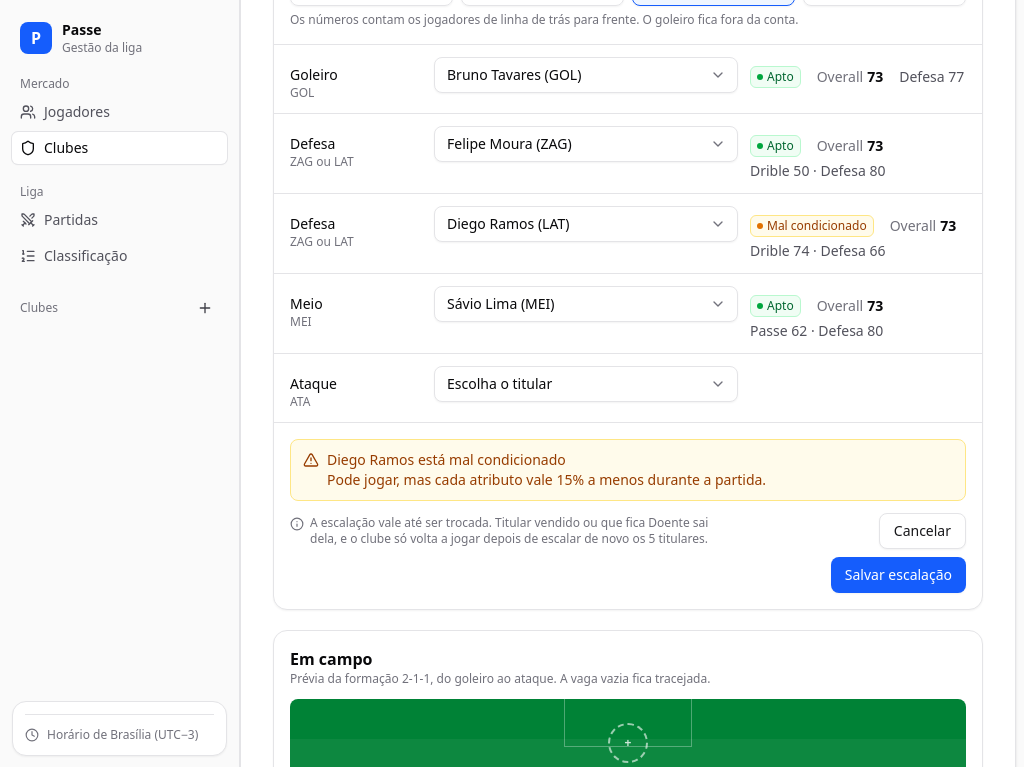
Test case: Escalação › mostra em campo os titulares escolhidos e, nas reservas, quem ficou de fora
(page scrolled)
Expected: the text "A vaga vazia fica tracejada" is shown, [557,670,710,687]
Select "João Silva (ATA)" in the dropdown labelled "Ataque" at x=586, y=384, box [434,366,738,402]
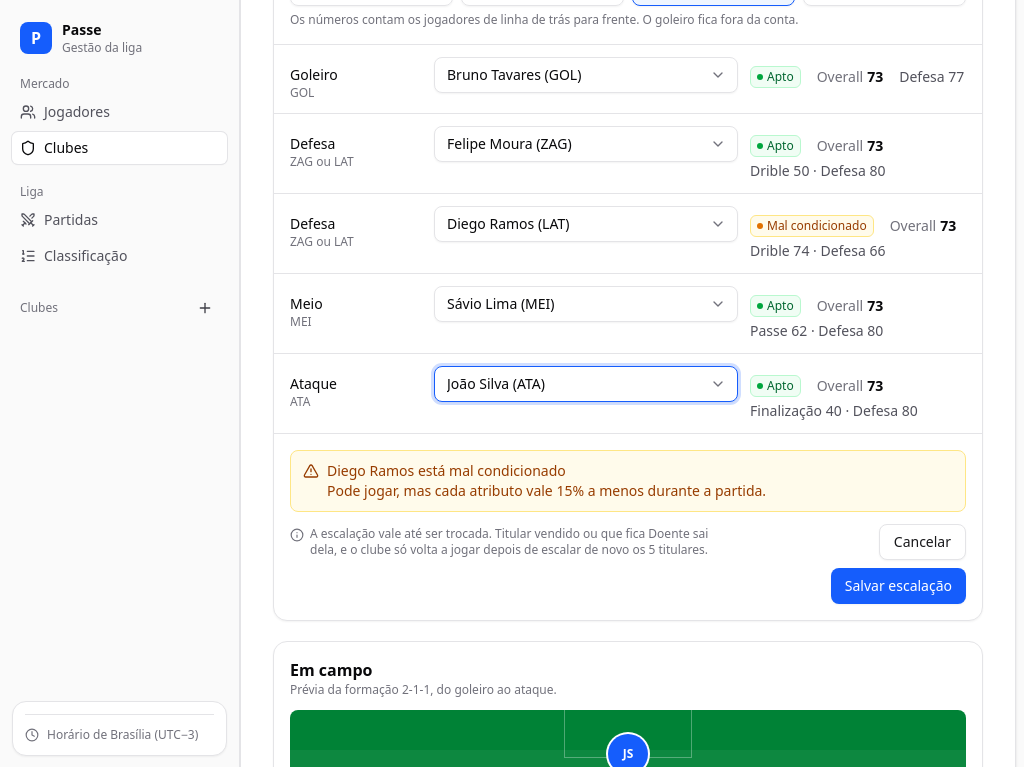
Result: the text "A vaga vazia fica tracejada" is gone
